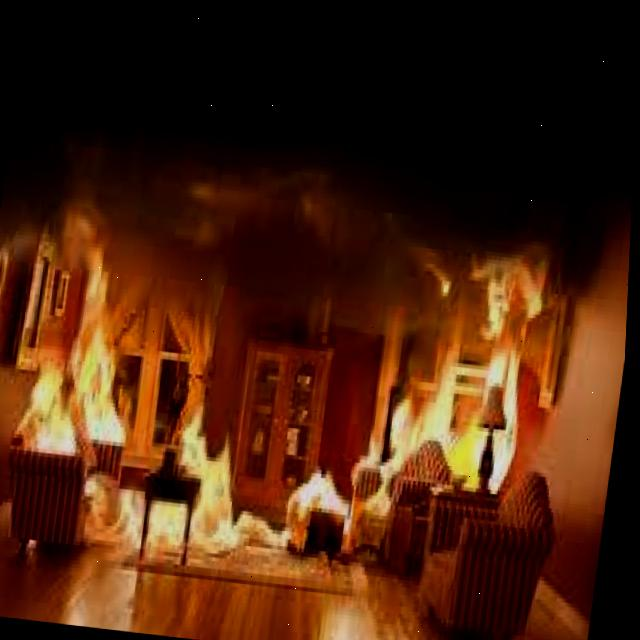fire: (392, 252, 575, 489), (179, 408, 394, 552), (19, 324, 149, 550), (152, 503, 186, 552)
smoke: (0, 82, 635, 606)
